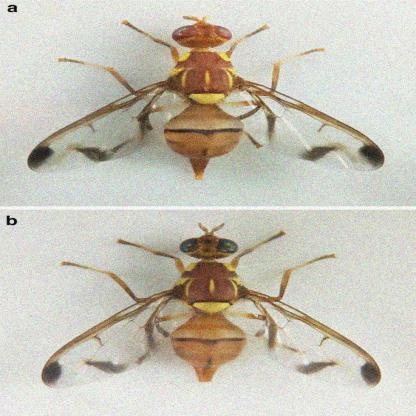fruit fly: (28, 21, 387, 180), (41, 223, 378, 388)
